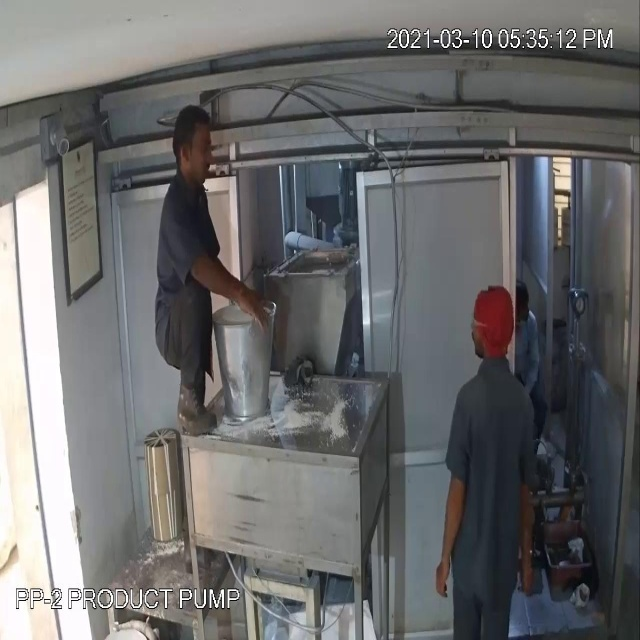Sin_guantes: (179, 233, 274, 337), (418, 444, 470, 611)
